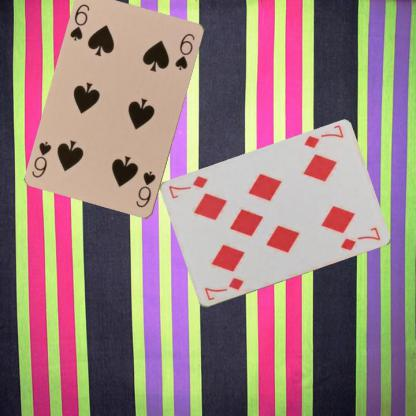6s: (134, 169, 157, 209), (68, 2, 91, 42)
7d: (301, 123, 345, 150), (202, 275, 245, 302)
